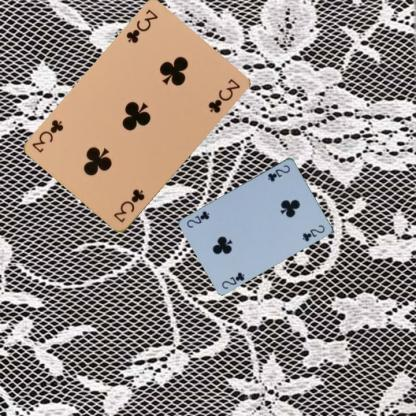2c: (219, 269, 246, 290), (265, 161, 291, 182)
3c: (124, 7, 160, 45), (111, 187, 146, 224)
